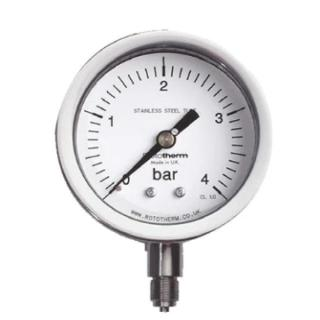gauge: (40, 22, 284, 262), (104, 174, 131, 198), (201, 172, 223, 198), (156, 130, 176, 150), (107, 186, 116, 196)
